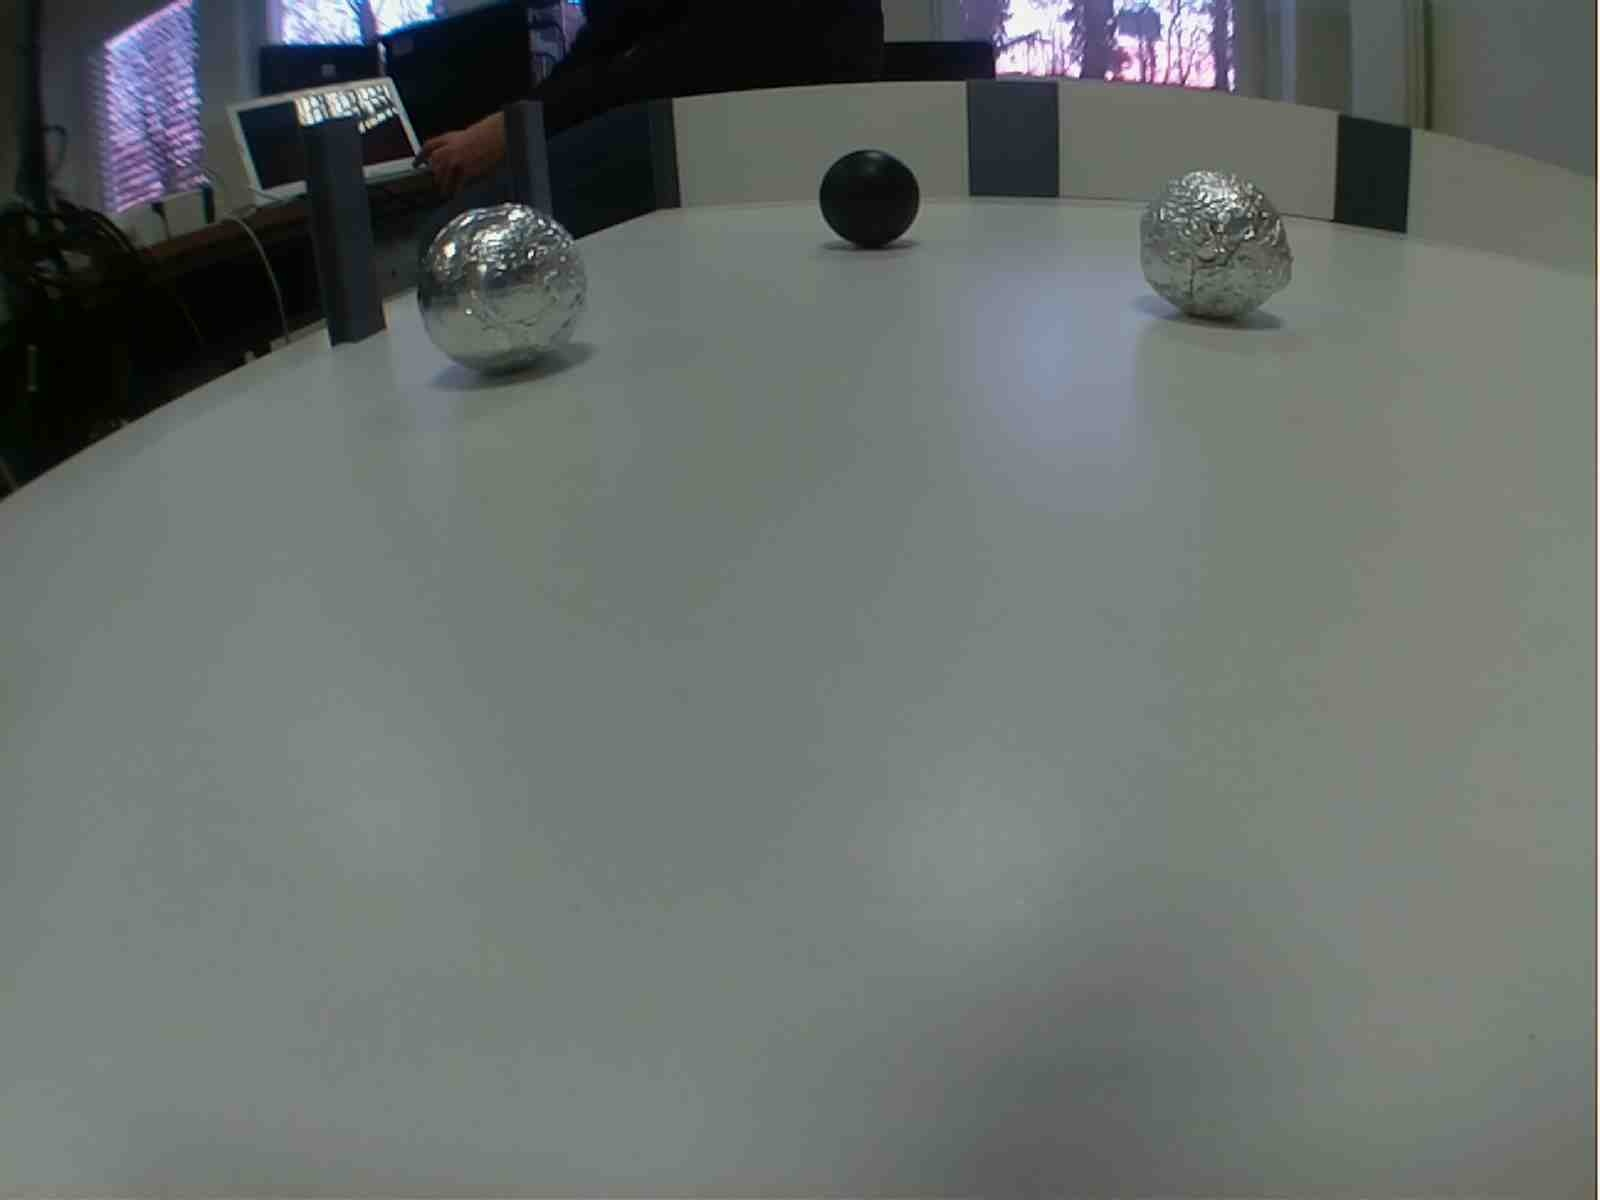bianca: (414, 204, 592, 379), (1141, 168, 1300, 326)
nera: (813, 142, 923, 253)
